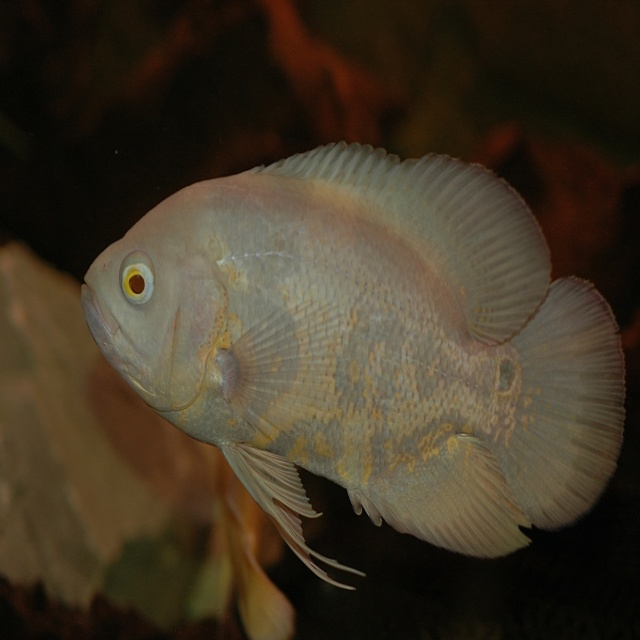Fish: (86, 130, 631, 599)
